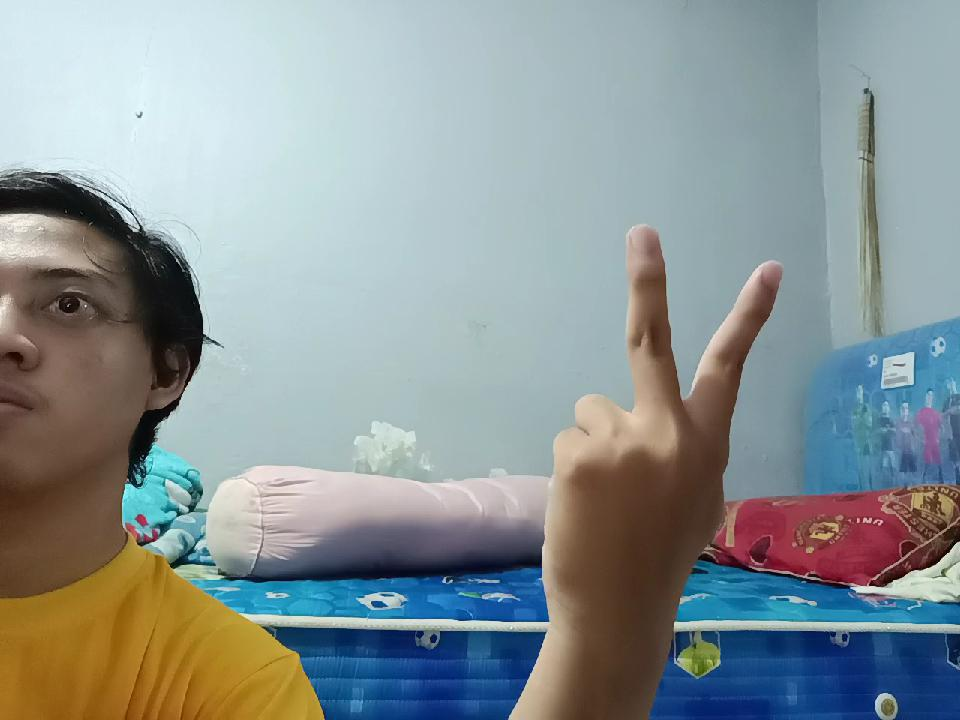scissors: (532, 212, 783, 638)
